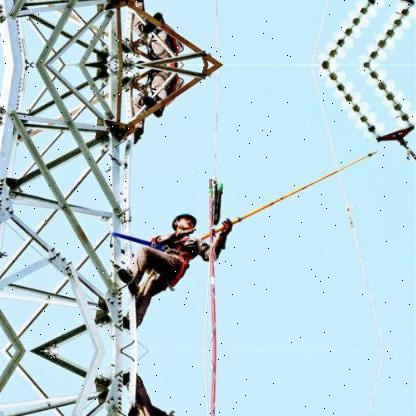helmet: (170, 205, 202, 235)
